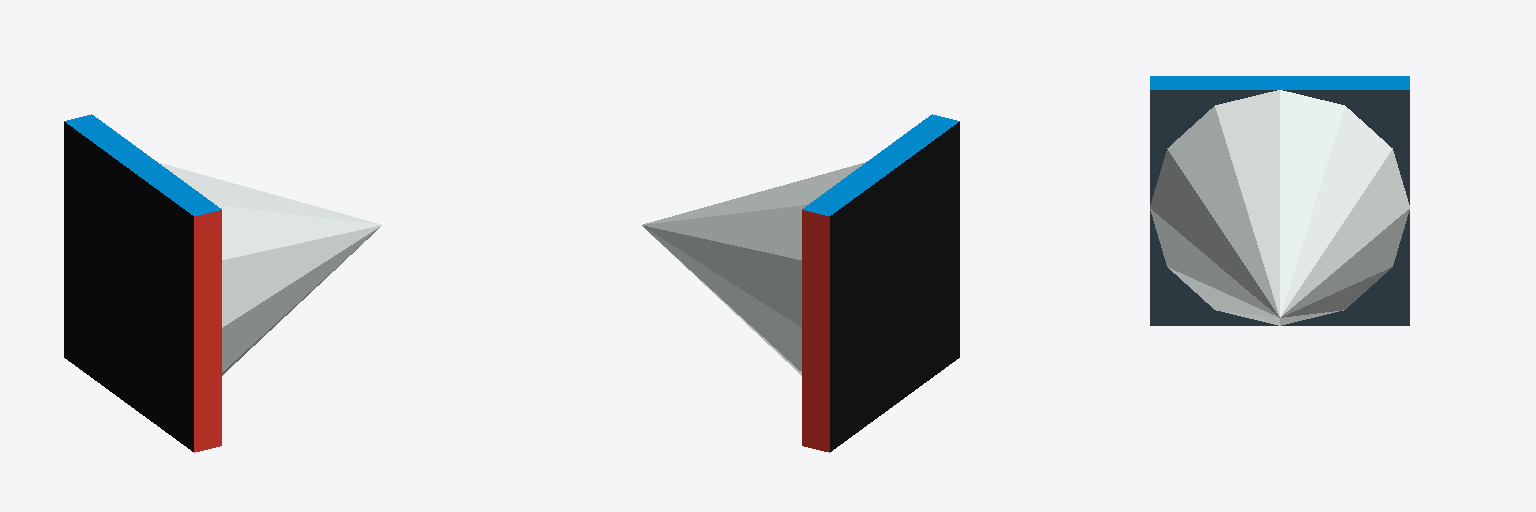
The model's file is model-triangulated.obj.
3 views of the same model, side by side, from view 1: azimuth 30°, elevation 25°; view 2: azimuth 150°, elevation 25°; view 3: azimuth 270°, elevation 25° (orthographic).
Visible parts, largest first — view 1: group[number redacted], group[number redacted]; view 2: group[number redacted], group[number redacted]; view 3: group[number redacted], group[number redacted].
Boxes of the visible parts, x1,y1,x2,y2 form: group[number redacted]: [64, 114, 221, 452]; group[number redacted]: [158, 162, 381, 375]; group[number redacted]: [802, 114, 959, 452]; group[number redacted]: [642, 162, 865, 375]; group[number redacted]: [1150, 90, 1409, 325]; group[number redacted]: [1150, 76, 1409, 325].
Size of the model in its own units: 0.1687 by 0.15 by 0.15.